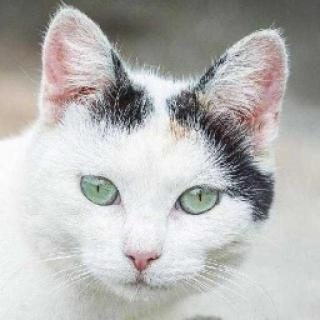cat: (35, 5, 293, 312)
nose: (116, 210, 174, 275)
